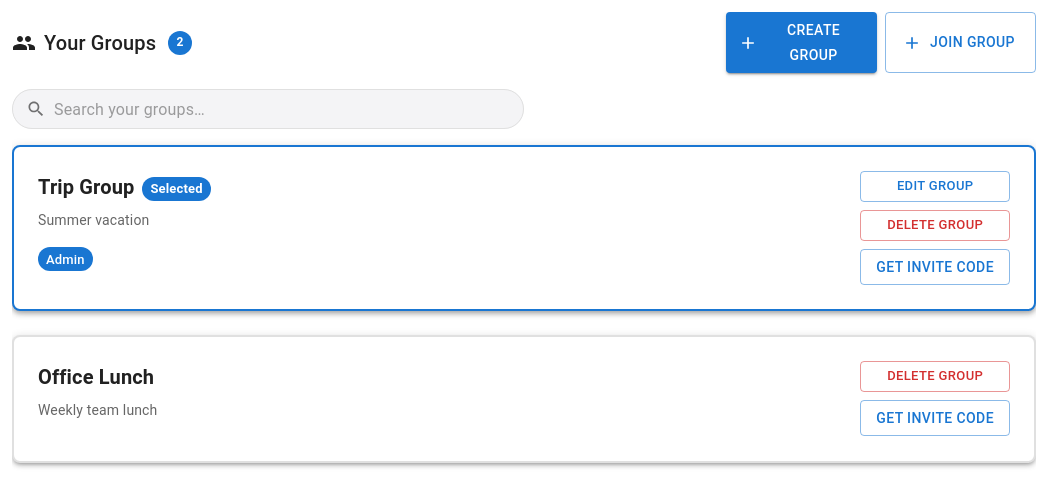
Scenario: GroupManagement - Core Functions › Group Search › should filter to the matching group only
Click the field named "Search groups" at (266, 109), box [54,89,478,129]
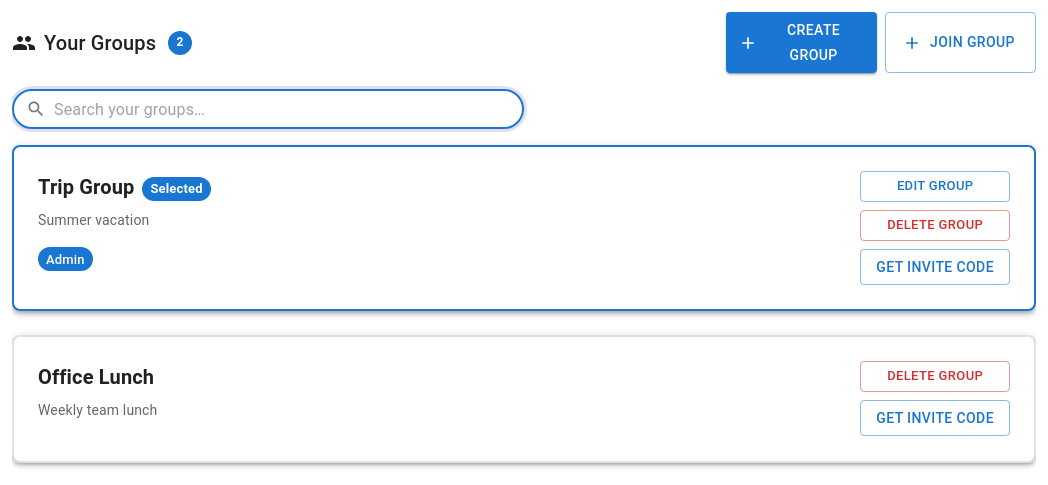
Type keys "office"
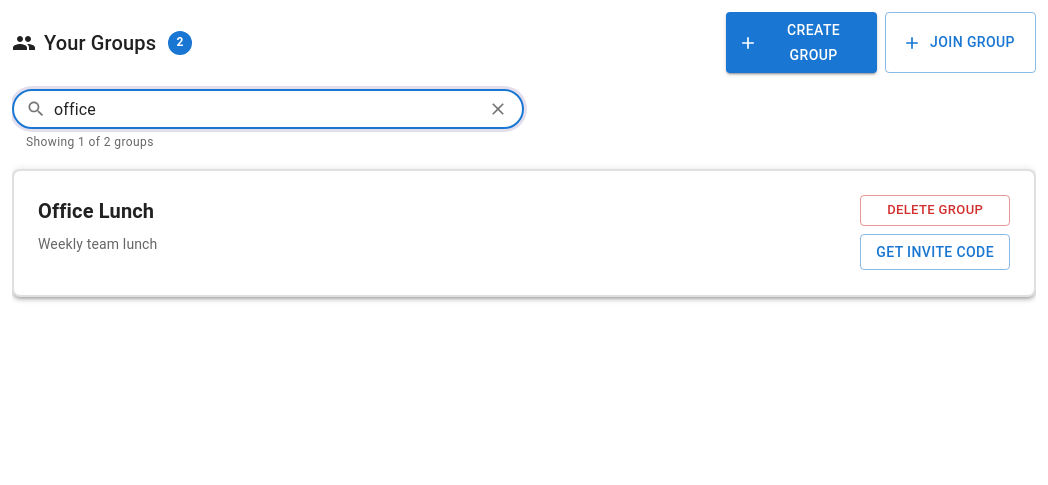
Expected: the heading "Office Lunch" is shown, [38,199,154,223]
Expected: the heading "Trip Group" is gone
